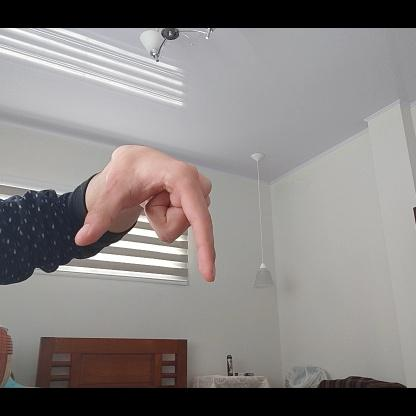Q: (76, 148, 216, 281)
